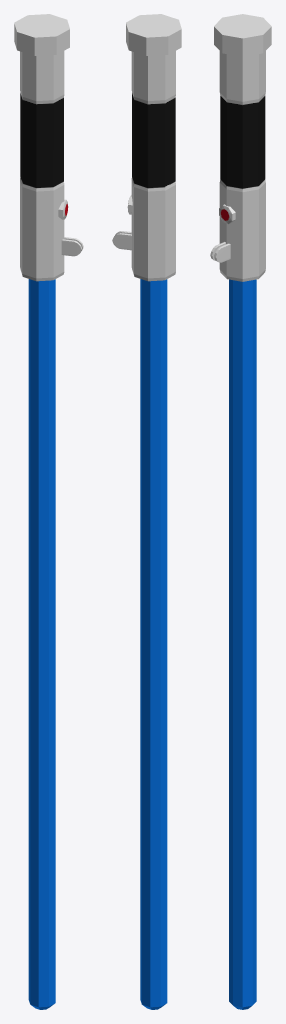
The model's file is lightsaber_blue_on.fbx.
3 views of the same model, side by side, from view 1: azimuth 30°, elevation 25°; view 2: azimuth 210°, elevation 25°; view 3: azimuth 270°, elevation 25° (orthographic).
Visible parts, largest first — view 1: lightsaber; view 2: lightsaber; view 3: lightsaber.
Boxes of the visible parts, <box> form: lightsaber: <box>14,14,83,1009</box>; lightsaber: <box>112,14,181,1009</box>; lightsaber: <box>210,14,271,1009</box>.
Size of the model in its own units: 0.04 by 0.7044 by 0.0401.
